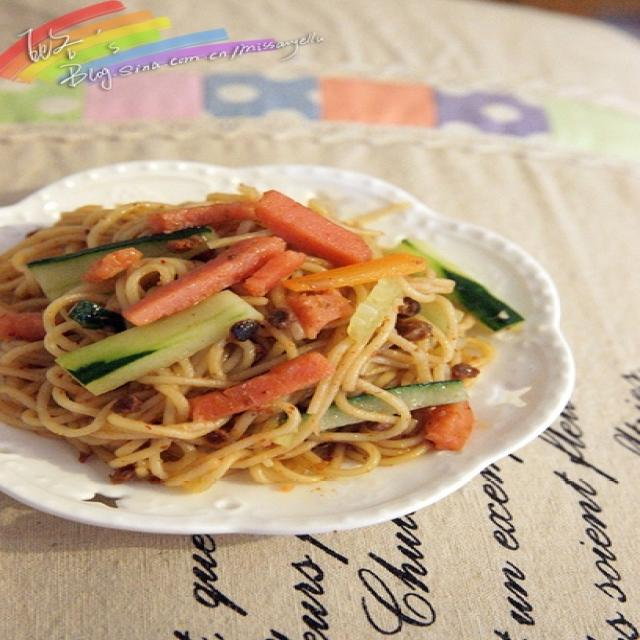面条主食: (0, 149, 584, 551)
